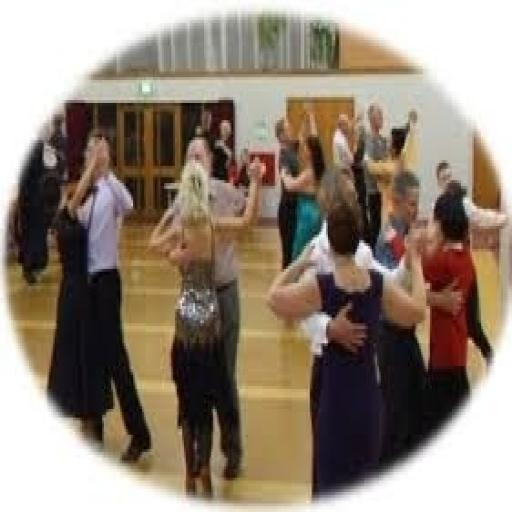dancing: (266, 166, 430, 503), (147, 146, 268, 500)
